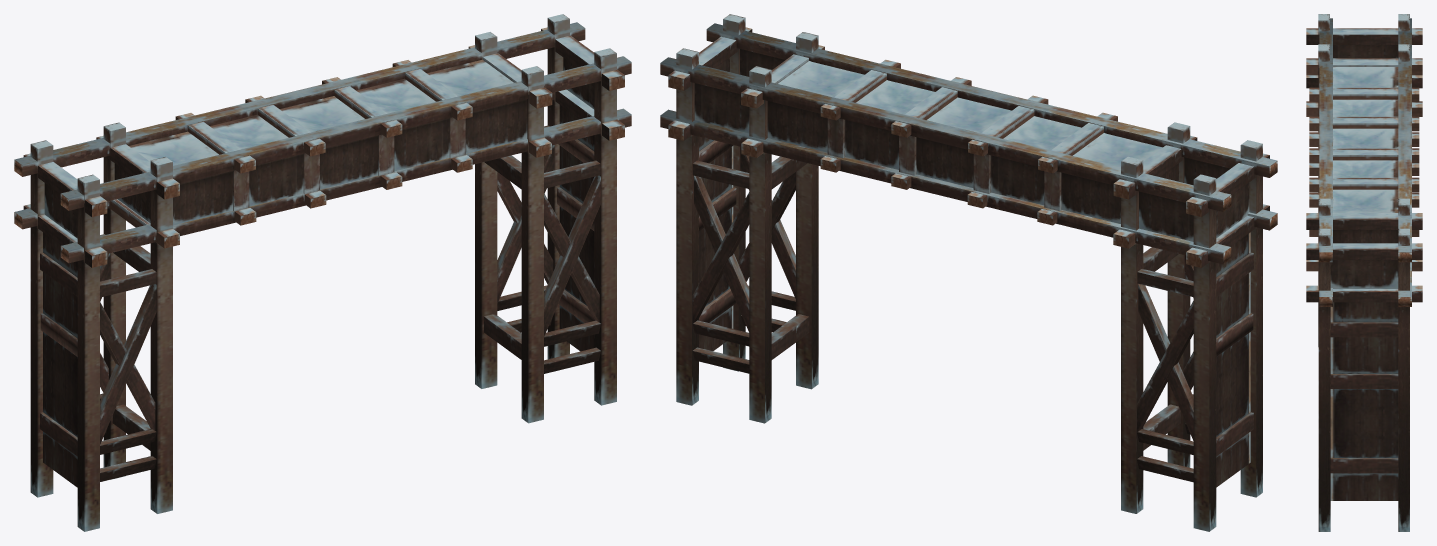
The model's file is yw_xuesebingfeng_mujia06.FBX.
The picture shows the model from 3 angles, left to right: view 1: azimuth 30°, elevation 25°; view 2: azimuth 150°, elevation 25°; view 3: azimuth 270°, elevation 25°; orthographic projection. The views are drawn at different scales.
Parts seen in each view (by area): view 1: yw_xuesebingfeng_mujia06; view 2: yw_xuesebingfeng_mujia06; view 3: yw_xuesebingfeng_mujia06.
Part boxes in pixels (x1,y1,x2,y2): yw_xuesebingfeng_mujia06: [14, 14, 631, 531]; yw_xuesebingfeng_mujia06: [660, 14, 1277, 531]; yw_xuesebingfeng_mujia06: [1306, 14, 1422, 531].
Size of the model in its own units: 1105 by 654 by 232.
